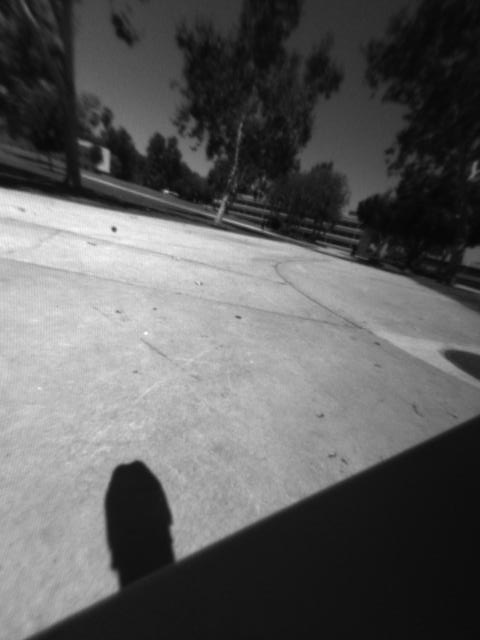dogtoy: (101, 217, 127, 238)
